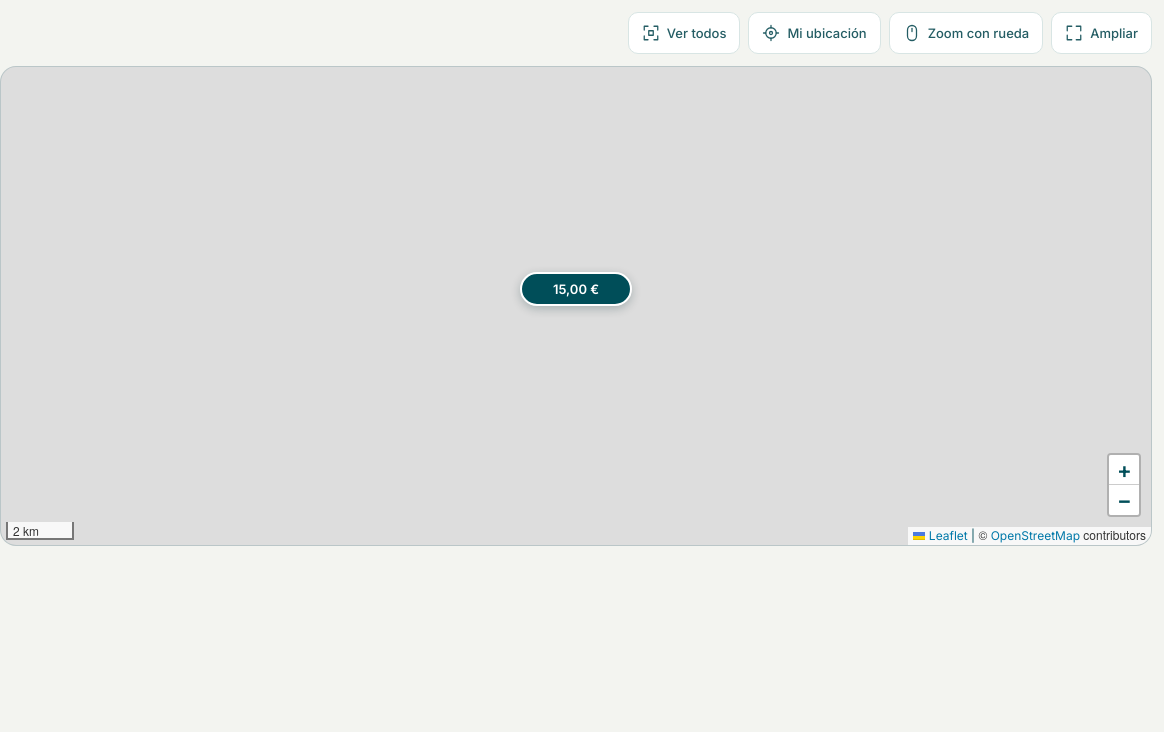
Test: Mapa interactivo › abre rutas solo para sedes exactas (aproximada: true)
Click the button with class "oona-map-marker" at (576, 289), box [520,272,632,306]
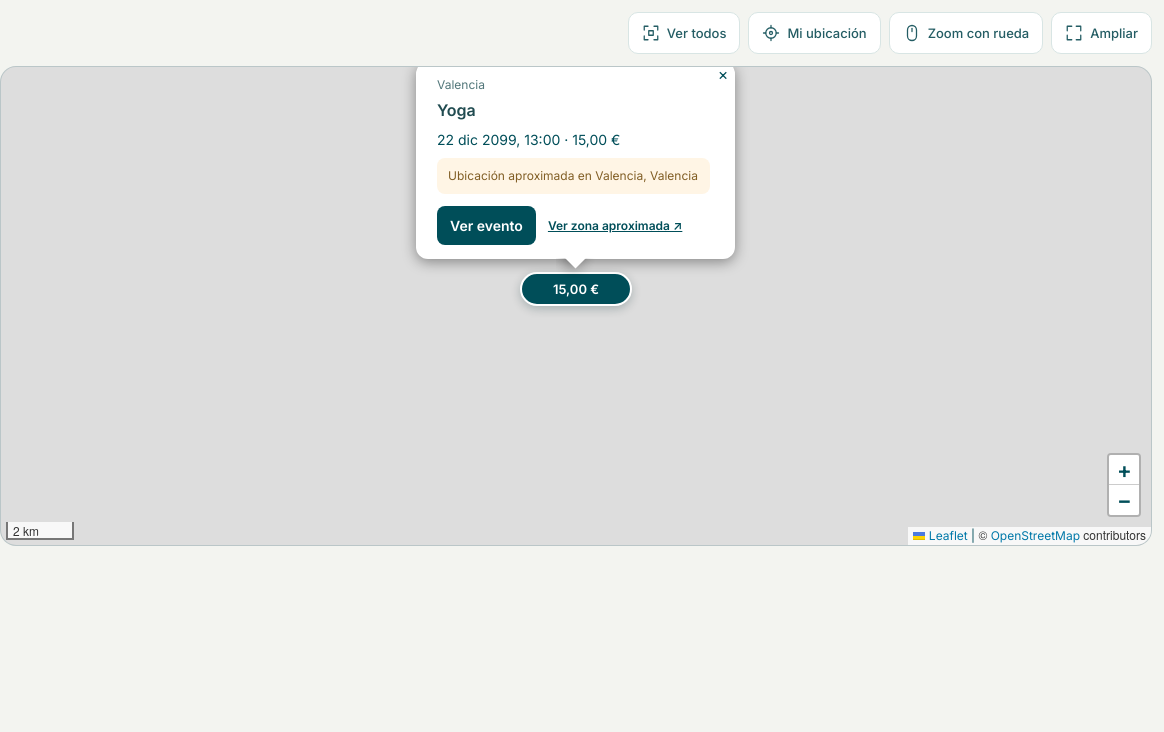
Result: the link with class "oona-map-external" shows "zona aproximada" at [548,218,682,232]
